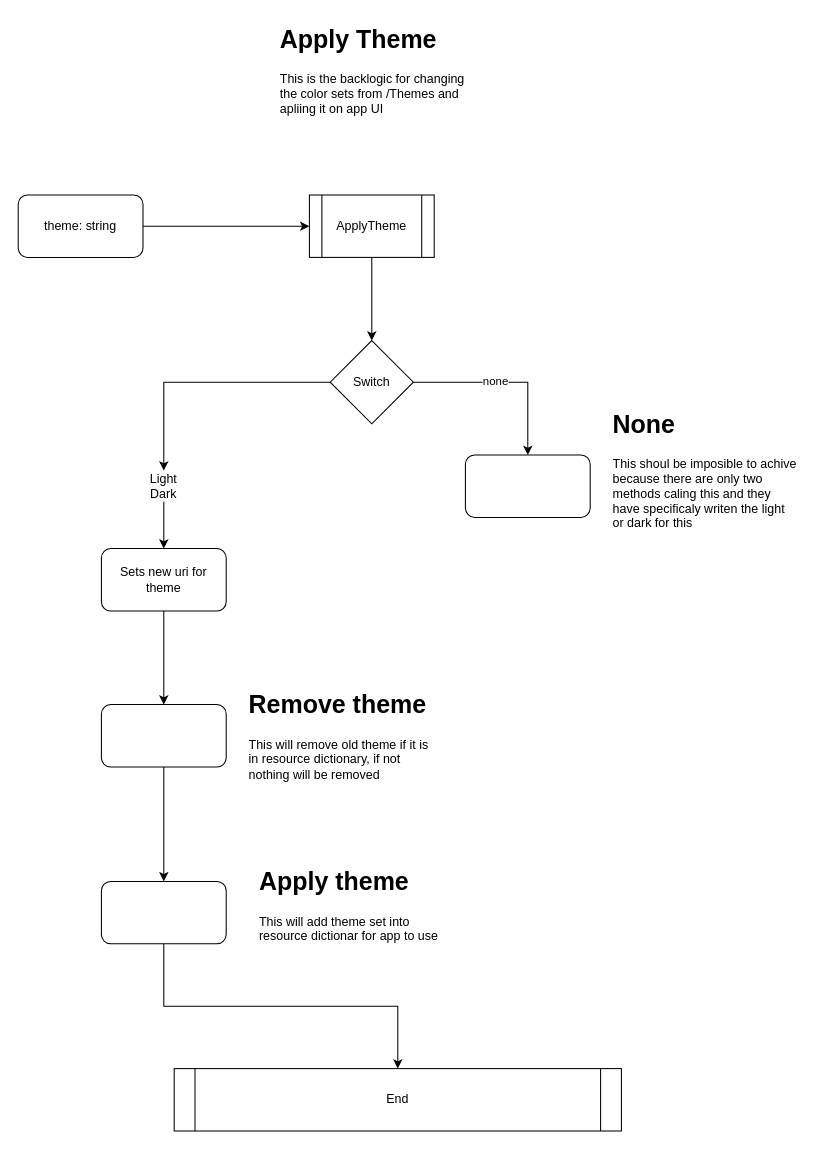
The diagram is 816 pixels wide and 1149 high, and some of its shapes have lost their labels. The box of each missing label's shape, as (x1, y1, x2, y2) in pixels:
Apply theme: (100, 880, 226, 944)
Nothing: (464, 454, 590, 517)
Removes old theme: (100, 704, 226, 767)
